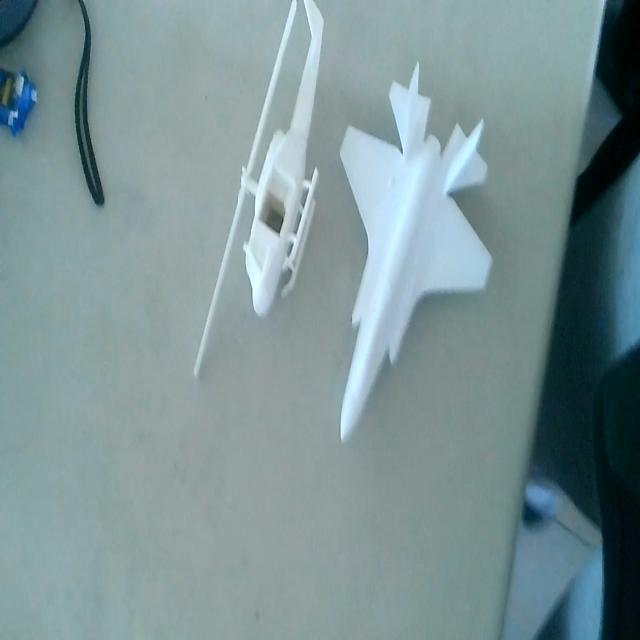Helicopter: (196, 0, 326, 384)
Jet: (337, 61, 495, 448)
